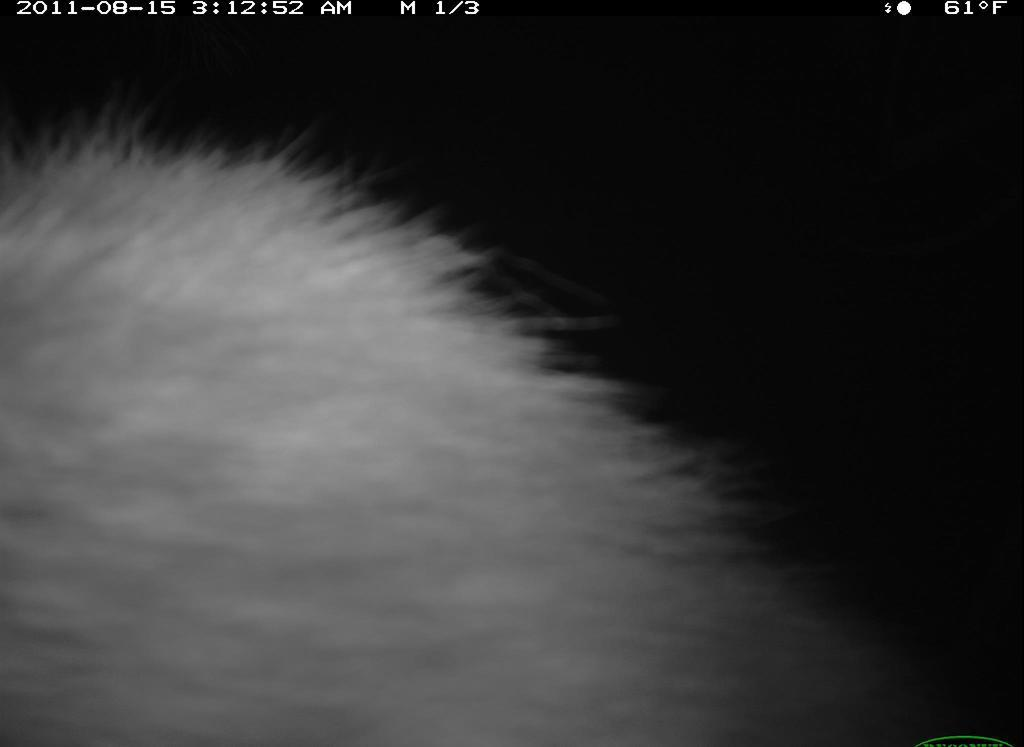raccoon: (4, 122, 907, 747)
